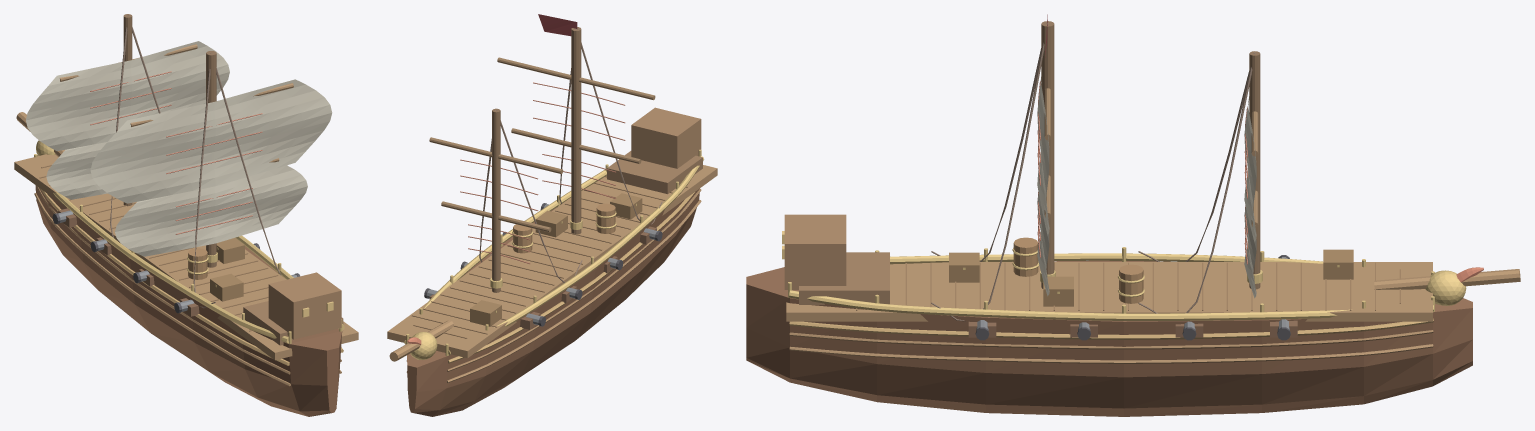
The model's file is player_brigantine.glb.
The picture shows the model from 3 angles, left to right: view 1: azimuth 30°, elevation 25°; view 2: azimuth 150°, elevation 25°; view 3: azimuth 270°, elevation 25°; orthographic projection. The views are drawn at different scales.
Parts seen in each view (by area): view 1: Brigantine_Sail_2_1, Brigantine_CarvedHull, Brigantine_Sail_1_1, Brigantine_Sail_2_2, Brigantine_Deck, Brigantine_CaptainCabin, Brigantine_Sail_1_2, Brigantine_Gunwale_-1, Brigantine_Hull_Strake_-1_0.2, Brigantine_Hull_Strake_-1_0.6, Brigantine_Quarterdeck, Brigantine_Hull_Strake_-1_0.42 (+9 smaller); view 2: Brigantine_Deck, Brigantine_CarvedHull, Brigantine_CaptainCabin, Brigantine_Mast_2, Brigantine_Quarterdeck, Brigantine_Gunwale_-1, Brigantine_Mast_1, Brigantine_Gunwale_1, Brigantine_Hull_Strake_-1_0.2, Brigantine_Yard_2_1, Brigantine_Hull_Strake_-1_0.6, Brigantine_Hull_Strake_-1_0.42 (+13 smaller); view 3: Brigantine_CarvedHull, Brigantine_Deck, Brigantine_CaptainCabin, Brigantine_Gunwale_1, Brigantine_Hull_Strake_1_0.6, Brigantine_Quarterdeck, Brigantine_Hull_Strake_1_0.2, Brigantine_Hull_Strake_1_0.42, Brigantine_Gunwale_-1, Brigantine_Mast_2, Brigantine_Mast_1, Brigantine_Bowsprit (+10 smaller).
Boxes of the visible parts, <box> form: Brigantine_Sail_2_1: <box>90,79,332,203</box>; Brigantine_CarvedHull: <box>35,155,342,416</box>; Brigantine_Sail_1_1: <box>26,41,229,151</box>; Brigantine_Sail_2_2: <box>115,165,307,256</box>; Brigantine_Deck: <box>14,154,358,360</box>; Brigantine_CaptainCabin: <box>268,272,341,339</box>; Brigantine_Sail_1_2: <box>46,142,107,199</box>; Brigantine_Gunwale_-1: <box>53,190,288,343</box>; Brigantine_Hull_Strake_-1_0.2: <box>34,193,290,386</box>; Brigantine_Hull_Strake_-1_0.6: <box>40,188,289,365</box>; Brigantine_Quarterdeck: <box>243,301,343,345</box>; Brigantine_Hull_Strake_-1_0.42: <box>36,185,290,374</box>; Brigantine_Deck: <box>387,165,717,358</box>; Brigantine_CarvedHull: <box>407,188,699,416</box>; Brigantine_CaptainCabin: <box>631,107,701,168</box>; Brigantine_Mast_2: <box>571,27,581,234</box>; Brigantine_Quarterdeck: <box>607,151,702,194</box>; Brigantine_Gunwale_-1: <box>448,156,703,355</box>; Brigantine_Mast_1: <box>492,108,500,292</box>; Brigantine_Gunwale_1: <box>404,169,606,344</box>; Brigantine_Hull_Strake_-1_0.2: <box>447,200,701,382</box>; Brigantine_Yard_2_1: <box>497,57,655,100</box>; Brigantine_Hull_Strake_-1_0.6: <box>448,191,695,363</box>; Brigantine_Hull_Strake_-1_0.42: <box>447,189,701,371</box>; Brigantine_CarvedHull: <box>746,260,1472,416</box>; Brigantine_Deck: <box>786,262,1432,321</box>; Brigantine_CaptainCabin: <box>784,214,846,289</box>; Brigantine_Gunwale_1: <box>789,290,1433,320</box>; Brigantine_Hull_Strake_1_0.6: <box>789,318,1433,339</box>; Brigantine_Quarterdeck: <box>799,252,889,304</box>; Brigantine_Hull_Strake_1_0.2: <box>789,344,1433,363</box>; Brigantine_Hull_Strake_1_0.42: <box>789,330,1433,349</box>; Brigantine_Gunwale_-1: <box>890,253,1323,264</box>; Brigantine_Mast_2: <box>1041,21,1054,288</box>; Brigantine_Mast_1: <box>1249,51,1260,289</box>; Brigantine_Bowsprit: <box>1374,269,1520,289</box>.
Bounding box in the file's own units: 4.74 × 6 × 10.66.
